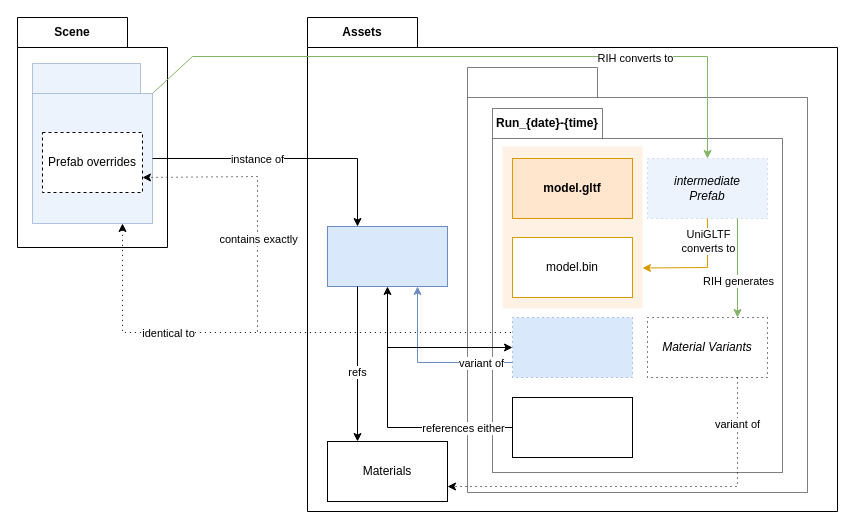
The diagram is 855 pixels wide and 529 high, and some of its shapes have lost their labels. Each missing label, with the box of its shape:
Avatar: (32, 62, 152, 224)
Avatar.prefab: (326, 226, 448, 286)
serialized_local_ modification.prefab: (512, 316, 632, 378)
tied.asset: (512, 396, 632, 458)
ZZZ_TemporalAsset: (466, 66, 808, 492)
